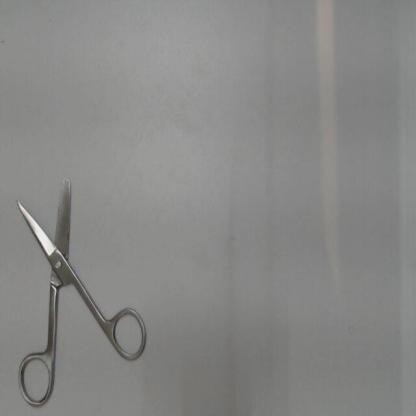Dressing Scissors: (12, 168, 153, 412)
